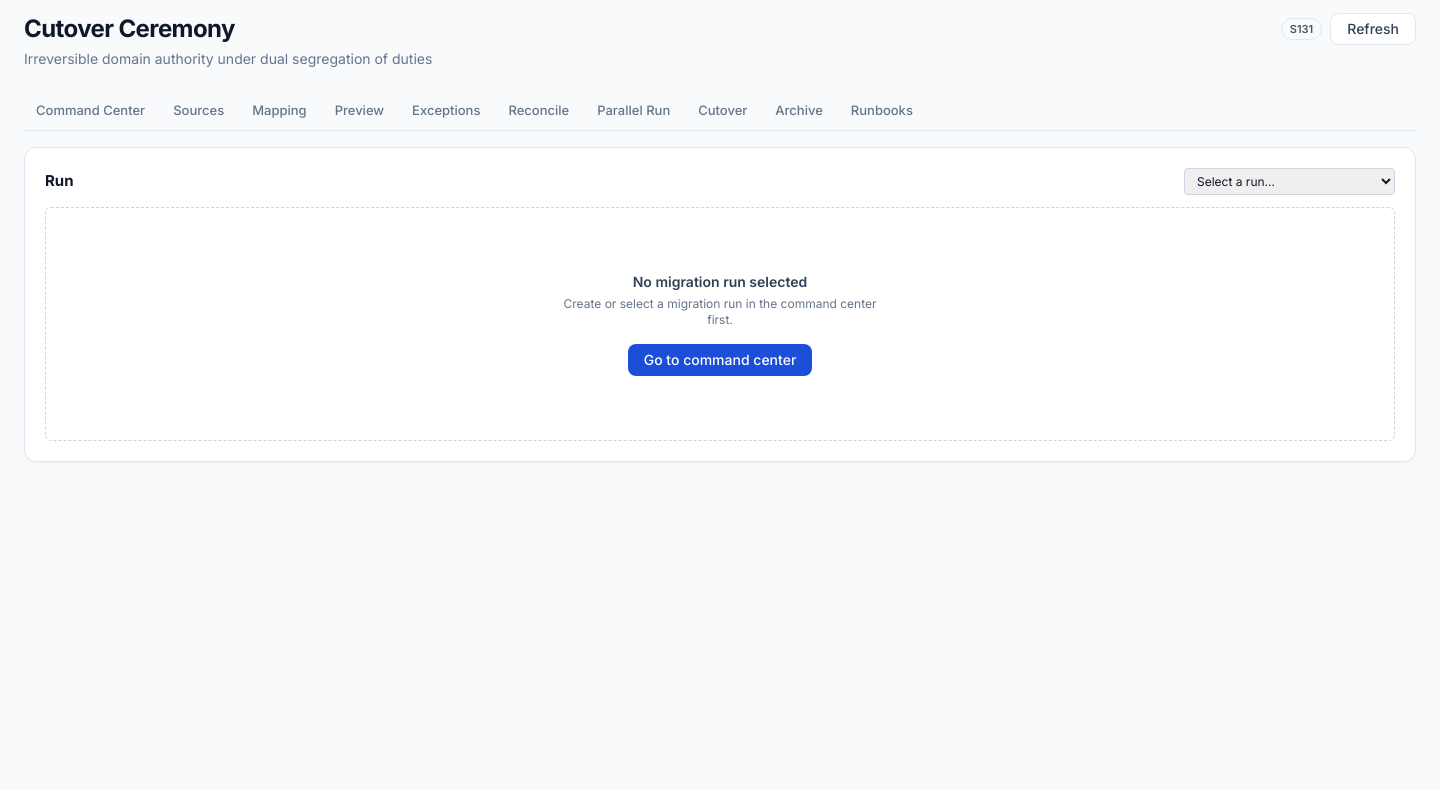
Scenario: MigrationCutover › surfaces a segregation-of-duties refusal from the service
Step 1. Select "run-a · READY_FOR_CUTOVER" in the dropdown with test id "cutover-run-select" → (1290, 181), box [1184,168,1395,194]
(page scrolled)
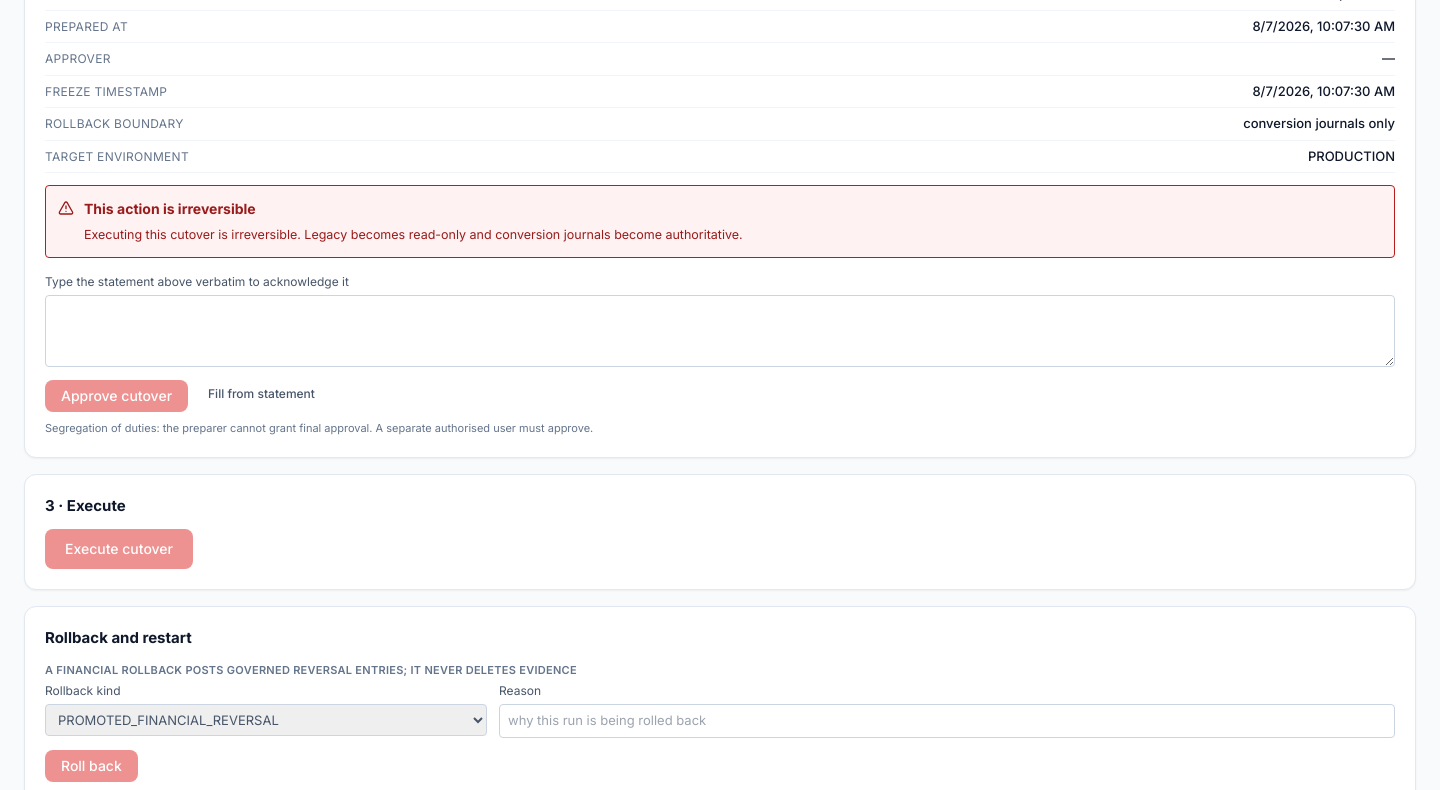
Now the button with test id "copy-statement-btn" is shown
Step 2. Click the button with test id "copy-statement-btn" → (261, 394), box [196,380,327,408]
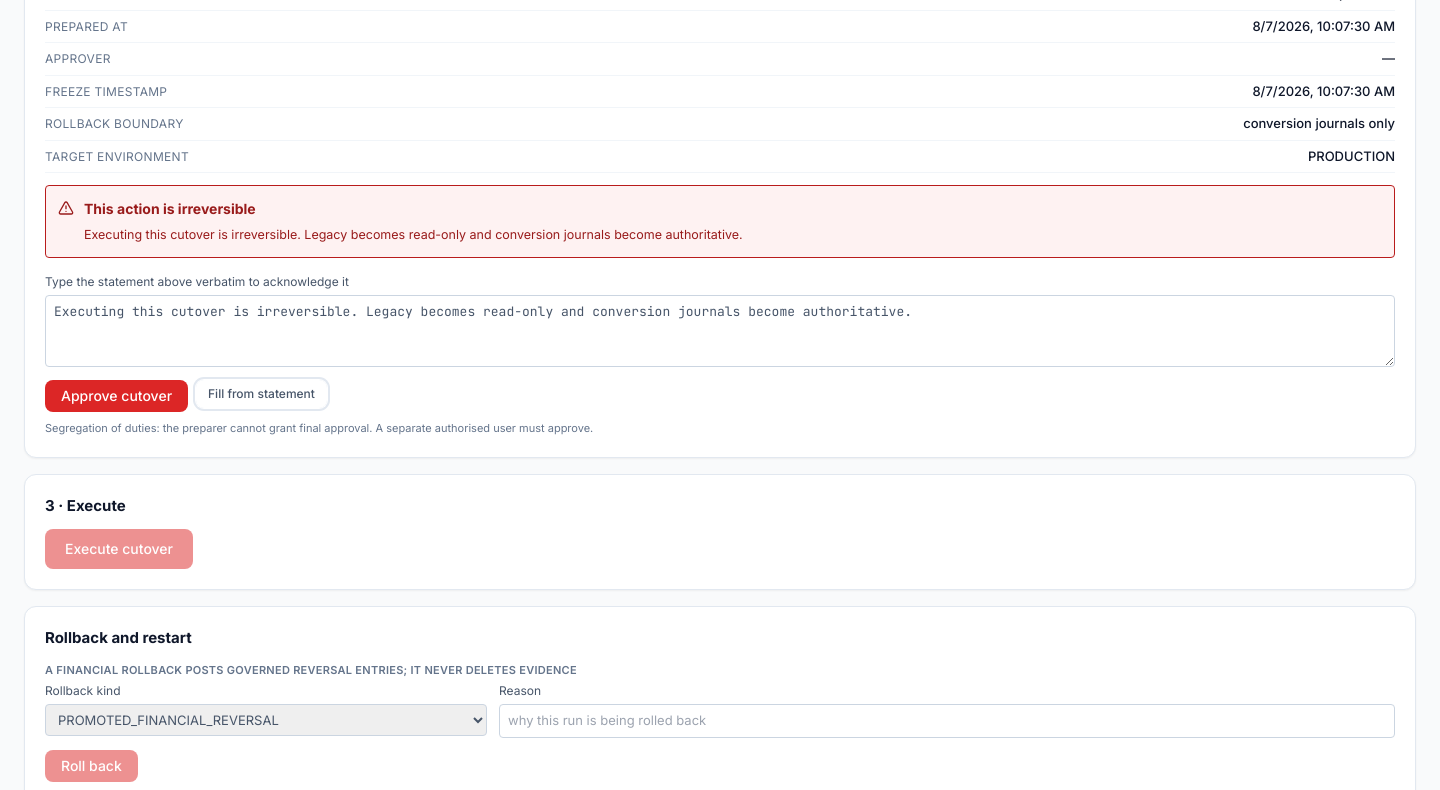
Step 3. Click the button with test id "approve-cutover-btn" → (116, 396), box [45,380,188,412]
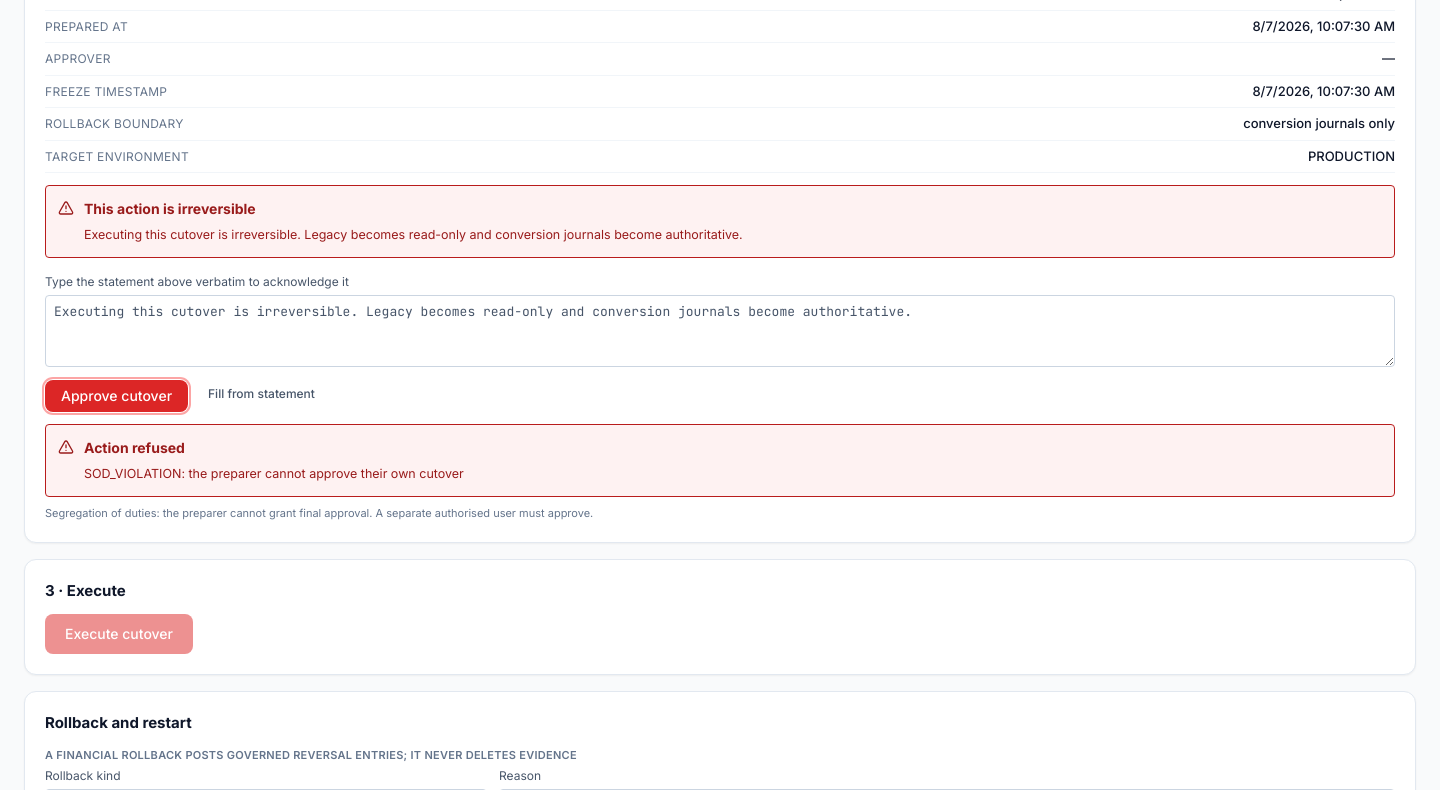
Now the element with test id "approve-error" is shown, box [45,424,1395,497]
Now the text "SOD_VIOLATION: the preparer cannot approve their own cutover" is shown, box [84,466,464,481]
